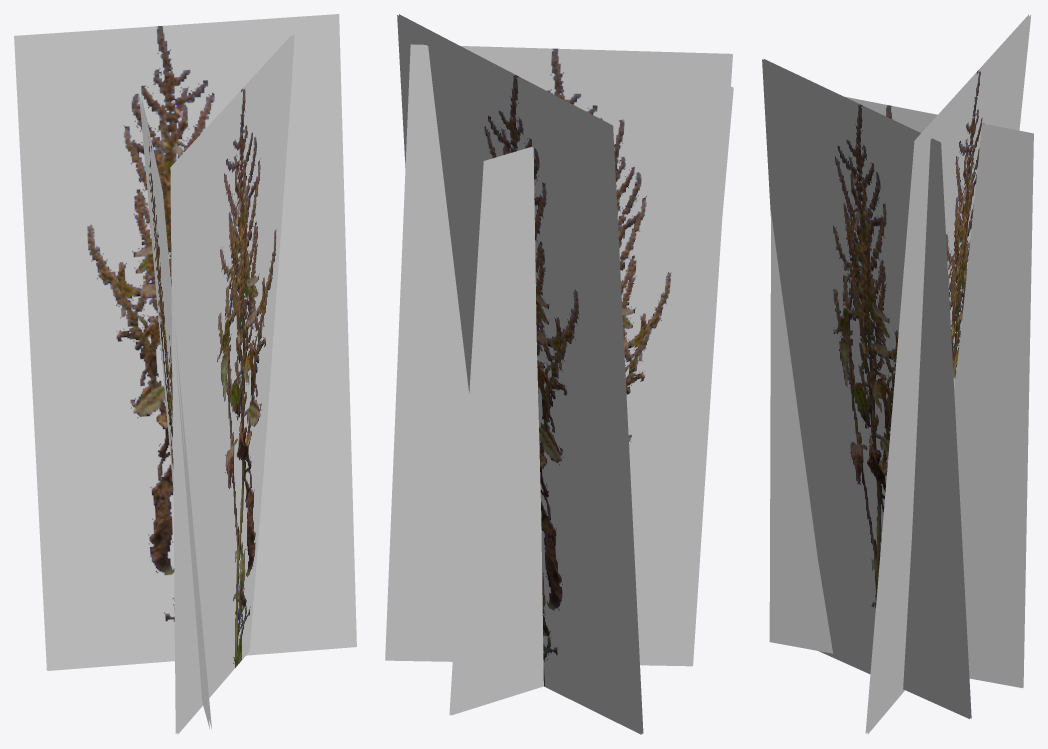
The model's file is grassweed01.fbx.
3 renders of one model, left to right at view 1: azimuth 30°, elevation 25°; view 2: azimuth 150°, elevation 25°; view 3: azimuth 270°, elevation 25°, orthographic. The views are drawn at different scales.
Parts seen in each view (by area): view 1: grassweed01; view 2: grassweed01; view 3: grassweed01.
Part boxes in pixels (left/top/right/bottom): grassweed01: left=14, top=14, right=356, bottom=734; grassweed01: left=385, top=14, right=733, bottom=734; grassweed01: left=762, top=14, right=1033, bottom=734.
Size of the model in its own units: 28.33 by 63.01 by 25.63.
